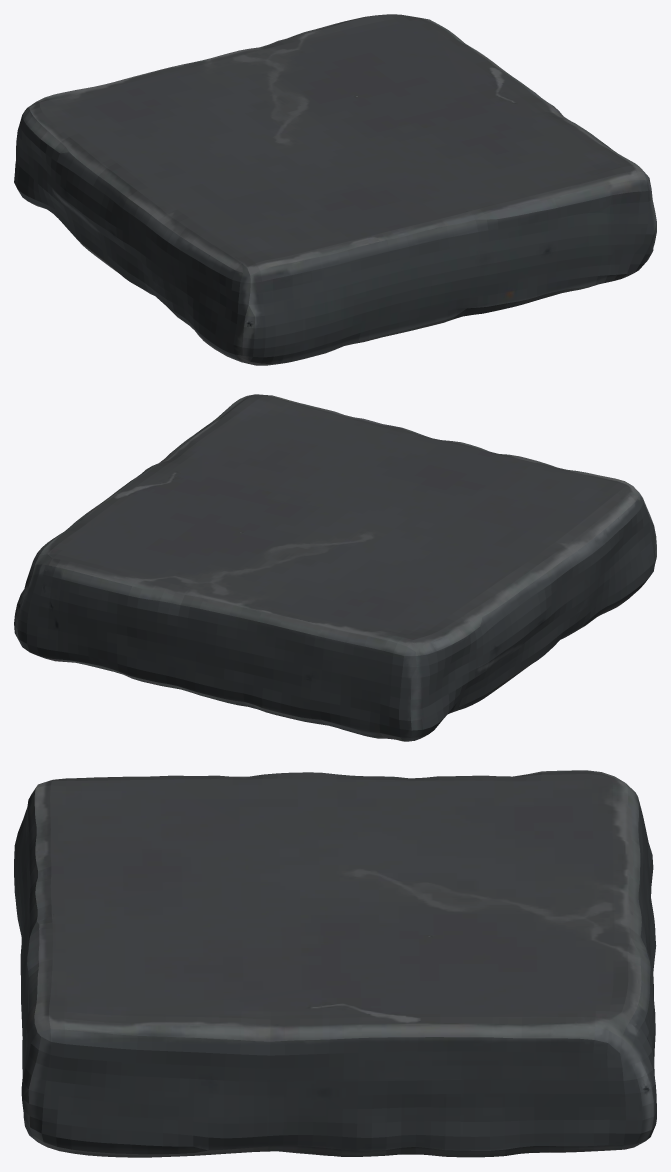
File: t_Obsidian_Isometric.glb
3 views of the same model, one above another, from view 1: azimuth 30°, elevation 25°; view 2: azimuth 150°, elevation 25°; view 3: azimuth 270°, elevation 25° (orthographic). The views are drawn at different scales.
Size of the model in its own units: 1.91 by 0.452 by 1.91.
1 material, 1 textured.
